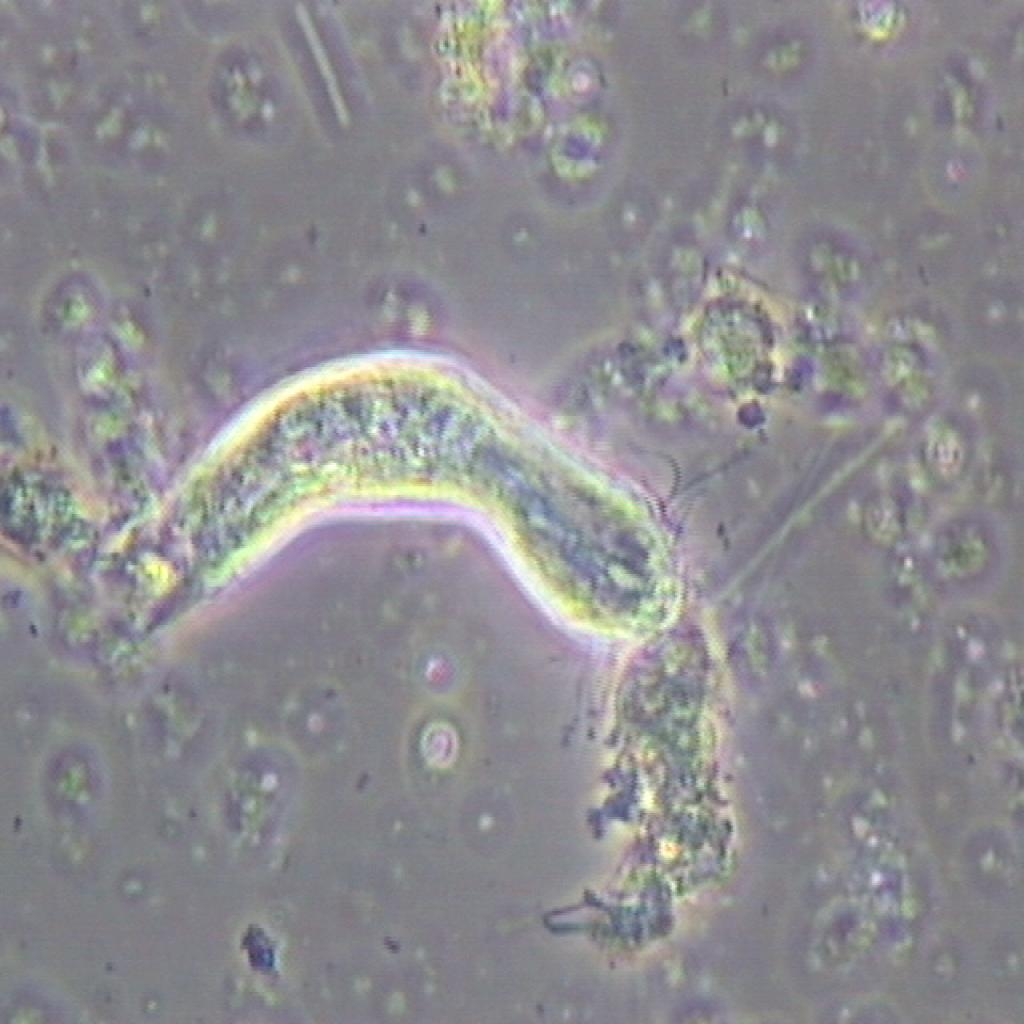Chaetonotus: (91, 318, 701, 700)
